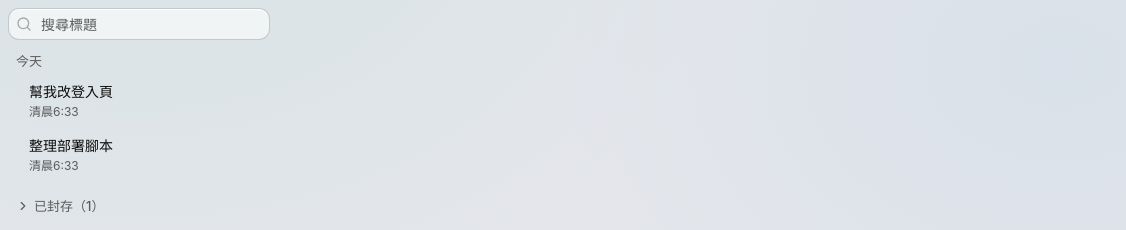
Test case: 釘選、封存、改名（#633） › 搜尋時封存區自動展開，命中的封存會話看得到
The width and height of the screenshot is (1126, 230).
Expected: the text "讀規格" is not shown
In the search field named "搜尋以前的會話": {"x": 139, "y": 24} top-left (8, 8), bottom-right (270, 40), type "規格"
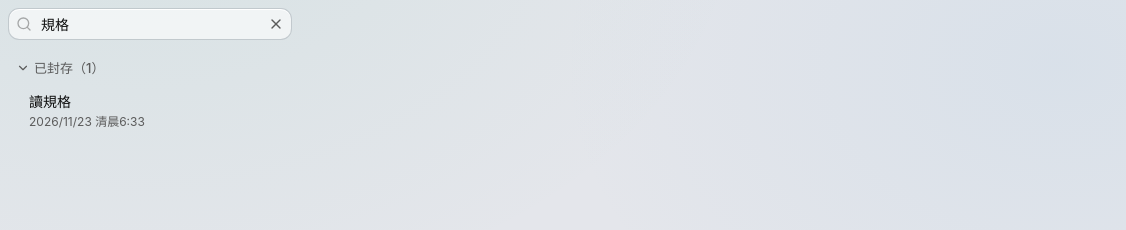
Result: the text "讀規格" is shown at top-left (29, 93), bottom-right (71, 110)
